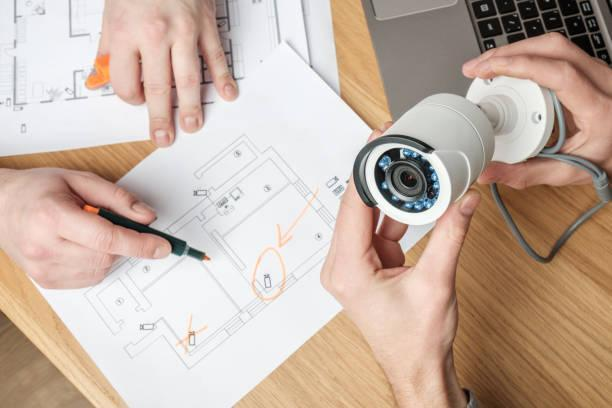camera: (341, 71, 508, 245)
